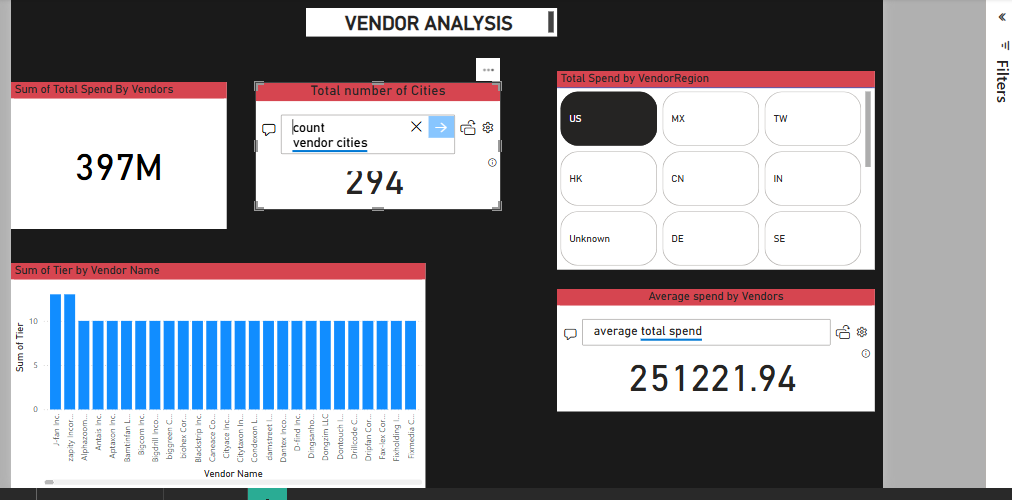

What the dashboard file says about the page in this screenshot:
{"tool":"powerbi","page":{"name":"Vendor Analysis","canvas":[1280,720],"ordinal":0},"visuals":[{"type":"card","title":"Sum of Total Spend By Vendors","fields":{"Values":["Sum(Sheet1.Total Spend)"]},"box":[0,123.8,316.8,216],"z":0},{"type":"columnChart","fields":{"Y":["Sum(Sheet1.Tier)"],"Category":["Sheet1.Vendor Name"]},"box":[0,388.8,609.1,331.2],"z":1000},{"type":"advancedSlicerVisual","title":"Total Spend by VendorRegion","fields":{"Values":["Sheet1.Vendor Country/Region"]},"box":[802.1,106.6,466.6,292.3],"z":2000},{"type":"textbox","box":[433.4,14.4,368.6,41.8],"z":3000},{"type":"qnaVisual","title":"Average spend by Vendors","box":[802.1,427.7,466.6,180],"z":4000},{"type":"qnaVisual","title":"Total number of Cities","box":[358.6,123.8,361.4,187.2],"z":4001}]}

Visuals, with their boxes on the page's 1280x720 design canvas (x1, y1, x2, y2). These are canvas units, not pixel positions in the 1012x500 screenshot, which may show the page scaled, cropped or inside an application window:
"Sum of Total Spend By Vendors" card: x1=0 y1=124 x2=317 y2=340
columnChart - Sum(Sheet1.Tier) x Sheet1.Vendor Name: x1=0 y1=389 x2=609 y2=720
"Total Spend by VendorRegion" advancedSlicerVisual: x1=802 y1=107 x2=1269 y2=399
textbox: x1=433 y1=14 x2=802 y2=56
"Average spend by Vendors" qnaVisual: x1=802 y1=428 x2=1269 y2=608
"Total number of Cities" qnaVisual: x1=359 y1=124 x2=720 y2=311
